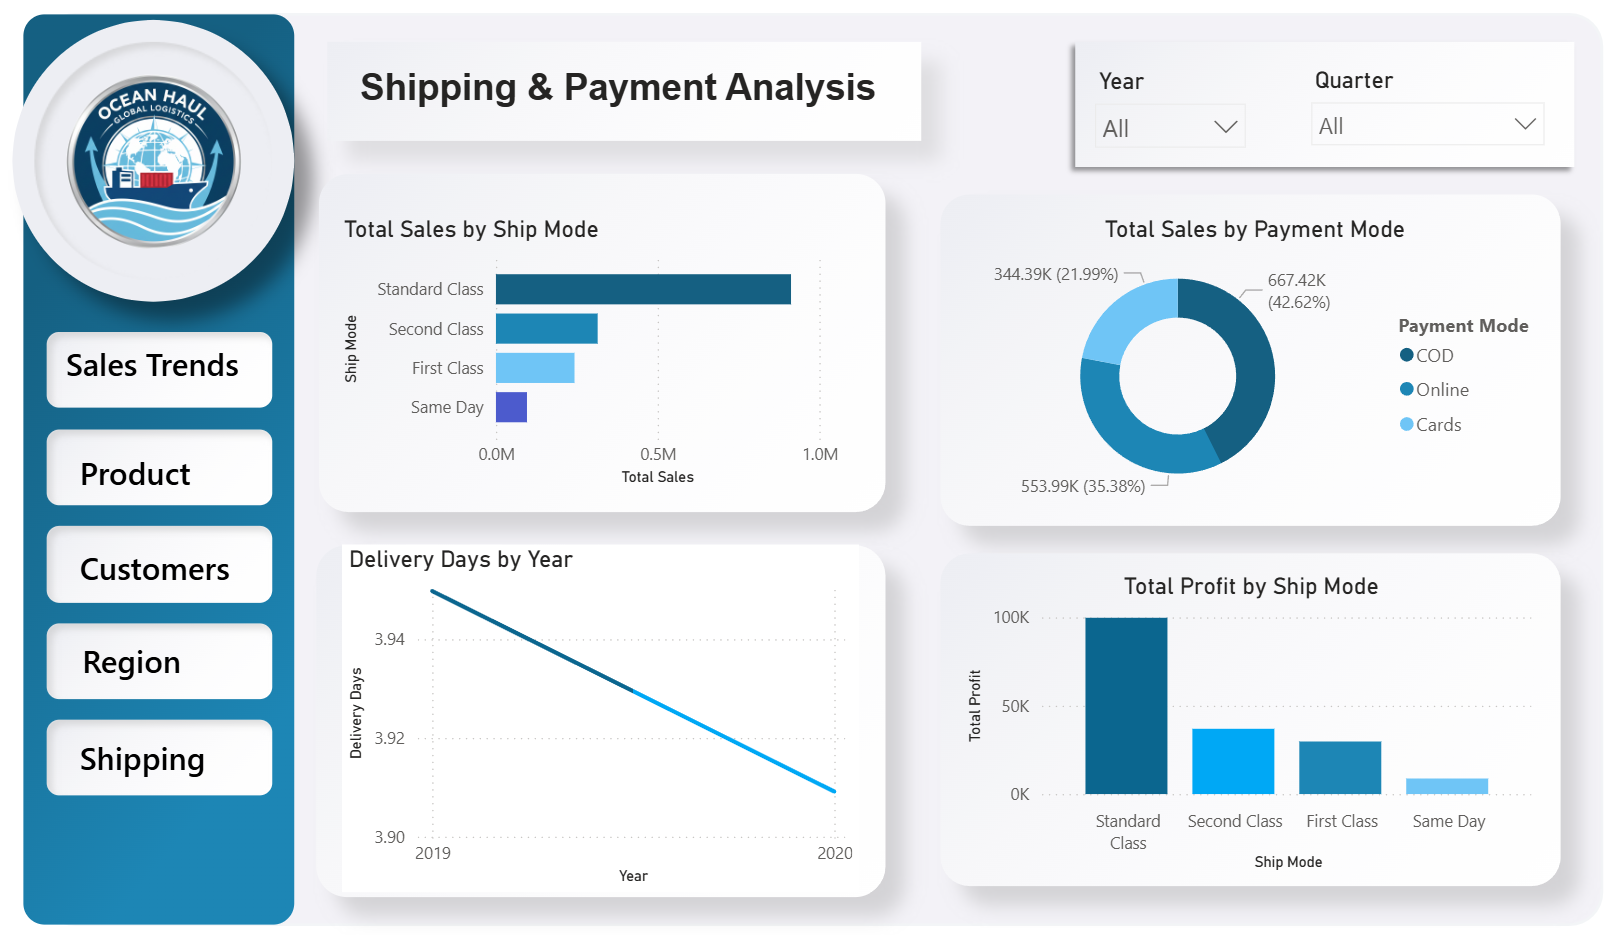

This screenshot's page, from the dashboard's own definition file:
{"tool":"powerbi","page":{"name":"Page 6","canvas":[1280,720],"ordinal":5},"visuals":[{"type":"textbox","box":[227.5,61.2,572.5,73.8],"z":7000},{"type":"clusteredBarChart","fields":{"Category":["Sheet1.Ship Mode"],"Y":["Sheet1.Total Sales"]},"box":[308.8,172.5,370,202.5],"z":8000},{"type":"lineChart","fields":{"Category":["Sheet1.Order Date.Variation.Date Hierarchy.Year","Sheet1.Order Date.Variation.Date Hierarchy.Quarter","Sheet1.Order Date.Variation.Date Hierarchy.Month","Sheet1.Order Date.Variation.Date Hierarchy.Day"],"Y":["Sheet1.Delivery Days"]},"box":[312.5,412.5,376.2,252.5],"z":9000},{"type":"donutChart","fields":{"Category":["Sheet1.Payment Mode"],"Y":["Sheet1.Total Sales"]},"box":[755,172.5,442.5,216.2],"z":10000},{"type":"clusteredColumnChart","fields":{"Category":["Sheet1.Ship Mode"],"Y":["Sheet1.Total Profit"]},"box":[762.5,432.5,422.5,222.5],"z":11000},{"type":"slicer","fields":{"Values":["Sheet1.Order Date.Variation.Date Hierarchy.Year"]},"box":[850,61.2,130,72.5],"z":12000},{"type":"slicer","fields":{"Values":["Sheet1.Order Date.Variation.Date Hierarchy.Quarter"]},"box":[1007.5,60,190,73.8],"z":13000},{"type":"actionButton","box":[111.2,261.2,146.2,40],"z":13001},{"type":"actionButton","box":[122.5,476.2,146.2,40],"z":13002},{"type":"actionButton","box":[121.2,408.8,147.5,40],"z":13003},{"type":"actionButton","box":[121.2,547.5,147.5,40],"z":13004},{"type":"actionButton","box":[121.2,338.8,147.5,41.2],"z":13005},{"type":"image","box":[82.5,42.5,186.2,183.8],"z":13006}]}

Visuals, with their boxes on the page's 1280x720 design canvas (x1, y1, x2, y2). These are canvas units, not pixel positions in the 1611x935 screenshot, which may show the page scaled, cropped or inside an application window:
textbox: {"left": 228, "top": 61, "right": 800, "bottom": 135}
clusteredBarChart - Sheet1.Ship Mode x Sheet1.Total Sales: {"left": 309, "top": 172, "right": 679, "bottom": 375}
lineChart - Sheet1.Order Date.Variation.Date Hierarchy.Year x Sheet1.Order Date.Variation.Date Hierarchy.Quarter: {"left": 312, "top": 412, "right": 689, "bottom": 665}
donutChart - Sheet1.Payment Mode x Sheet1.Total Sales: {"left": 755, "top": 172, "right": 1198, "bottom": 389}
clusteredColumnChart - Sheet1.Ship Mode x Sheet1.Total Profit: {"left": 762, "top": 432, "right": 1185, "bottom": 655}
slicer - Sheet1.Order Date.Variation.Date Hierarchy.Year: {"left": 850, "top": 61, "right": 980, "bottom": 134}
slicer - Sheet1.Order Date.Variation.Date Hierarchy.Quarter: {"left": 1008, "top": 60, "right": 1198, "bottom": 134}
actionButton: {"left": 111, "top": 261, "right": 257, "bottom": 301}
actionButton: {"left": 122, "top": 476, "right": 269, "bottom": 516}
actionButton: {"left": 121, "top": 409, "right": 269, "bottom": 449}
actionButton: {"left": 121, "top": 548, "right": 269, "bottom": 588}
actionButton: {"left": 121, "top": 339, "right": 269, "bottom": 380}
image: {"left": 82, "top": 42, "right": 269, "bottom": 226}
